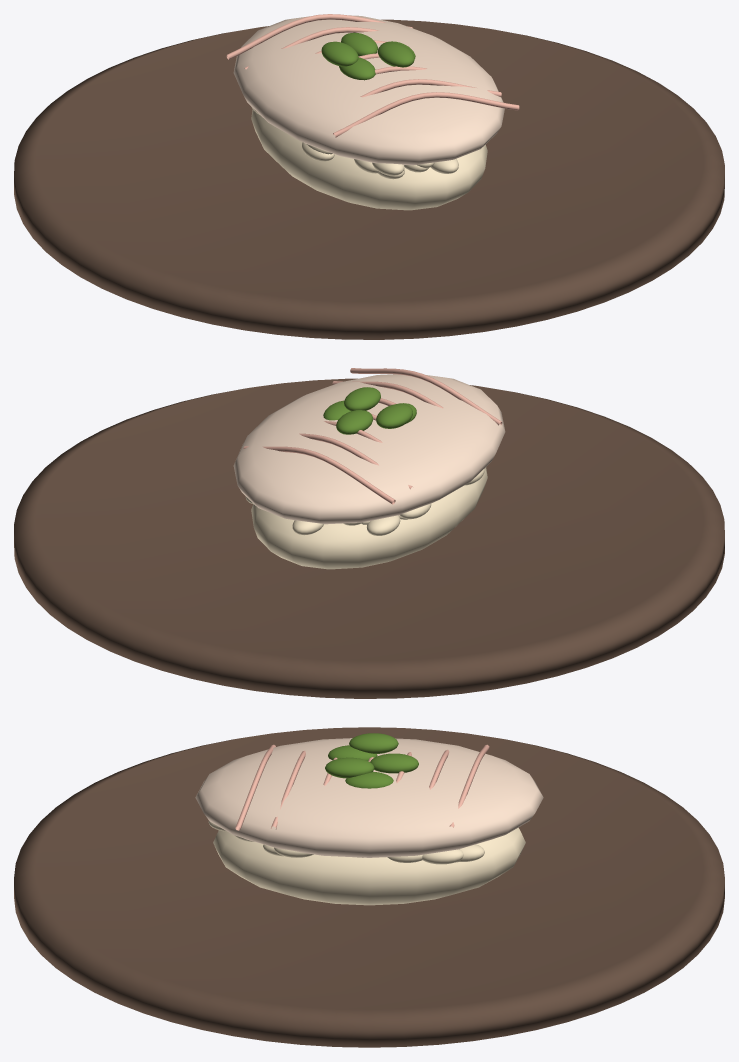
File: 41-flounder.glb
3 renders of one model, top to bottom at view 1: azimuth 30°, elevation 25°; view 2: azimuth 150°, elevation 25°; view 3: azimuth 270°, elevation 25°, orthographic.
Visible parts, largest first — view 1: 광어 초밥; view 2: 광어 초밥; view 3: 광어 초밥.
Boxes of the visible parts, x1=… form: 광어 초밥: x1=14, y1=14, x2=724, y2=339; 광어 초밥: x1=14, y1=368, x2=724, y2=698; 광어 초밥: x1=14, y1=727, x2=724, y2=1047.
Bounding box in the file's own units: 2 × 0.521 × 2.
